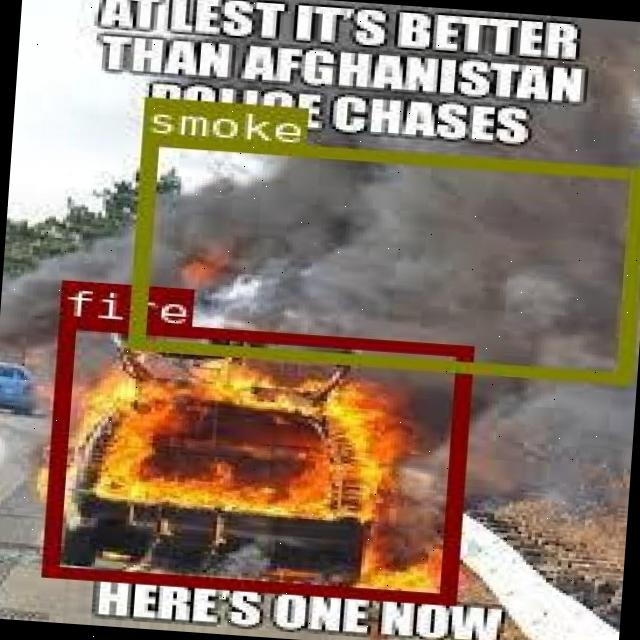fire: (39, 316, 468, 602)
smoke: (125, 132, 640, 383)
